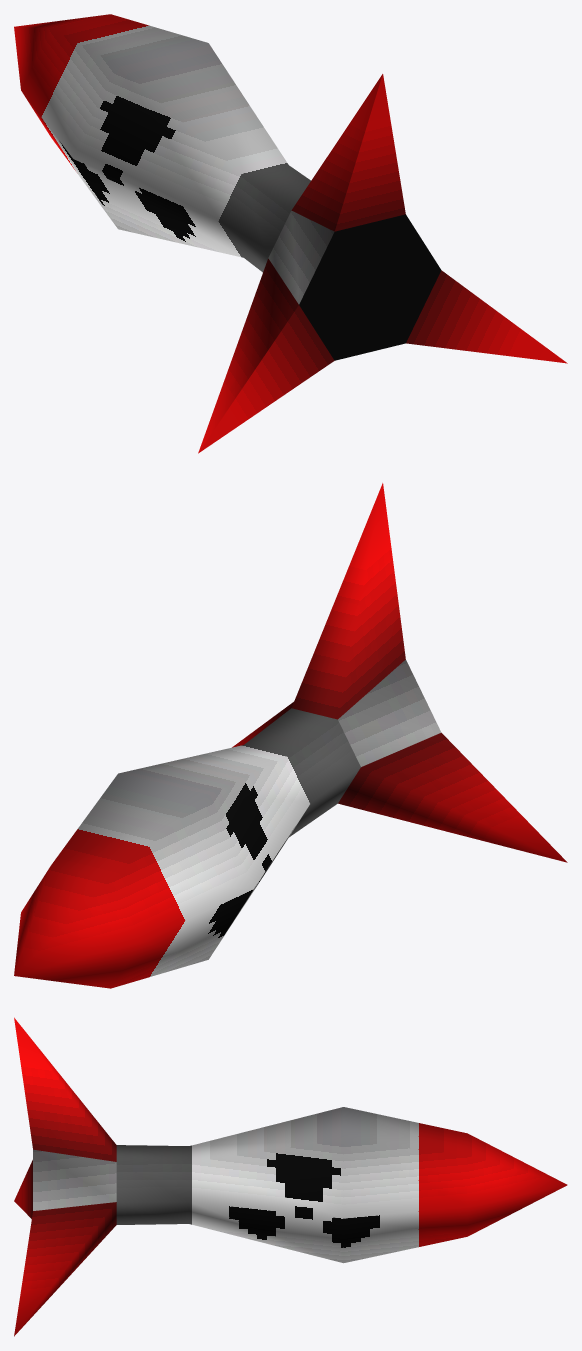
The model's file is sfx_spirit_bomberwing_cleaningbomber_missile1.glb.
The picture shows the model from 3 angles, top to bottom: view 1: azimuth 30°, elevation 25°; view 2: azimuth 150°, elevation 25°; view 3: azimuth 270°, elevation 25°; orthographic projection. The views are drawn at different scales.
Parts seen in each view (by area): view 1: sfx_spirit_bomberwing_cleaningbomber_missile1; view 2: sfx_spirit_bomberwing_cleaningbomber_missile1; view 3: sfx_spirit_bomberwing_cleaningbomber_missile1.
Boxes of the visible parts, box(x1,y1,x2,y2) form: sfx_spirit_bomberwing_cleaningbomber_missile1: box(14, 14, 567, 453); sfx_spirit_bomberwing_cleaningbomber_missile1: box(14, 483, 567, 988); sfx_spirit_bomberwing_cleaningbomber_missile1: box(14, 1017, 567, 1336).
Size of the model in its own units: 0.1837 by 0.1591 by 0.3173.
1 material, 1 textured.
